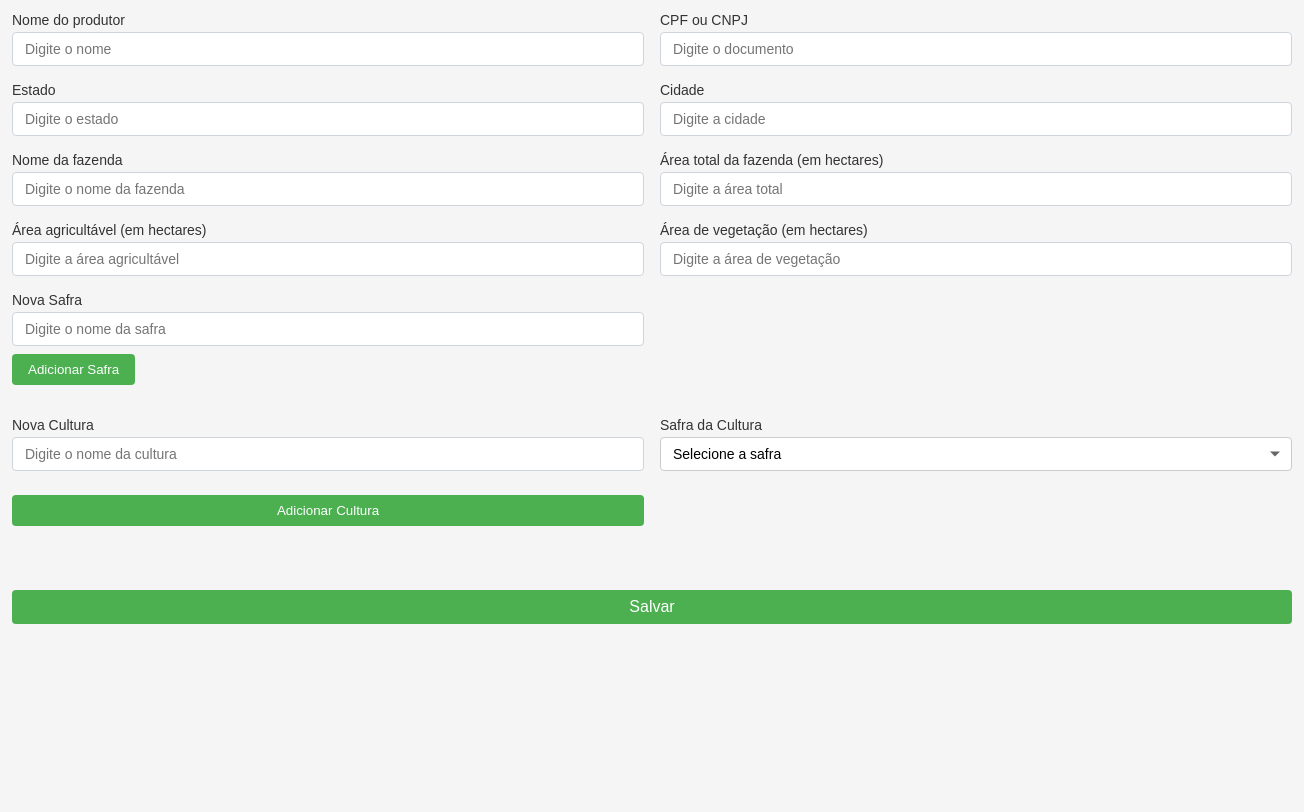
ProducerForm › should show error when cultivable + vegetation area exceeds total area
Note: Fill form with invalid area values
Type "100" into the number field with placeholder "Digite a área total" at [976, 189], box [660,172,1292,206]
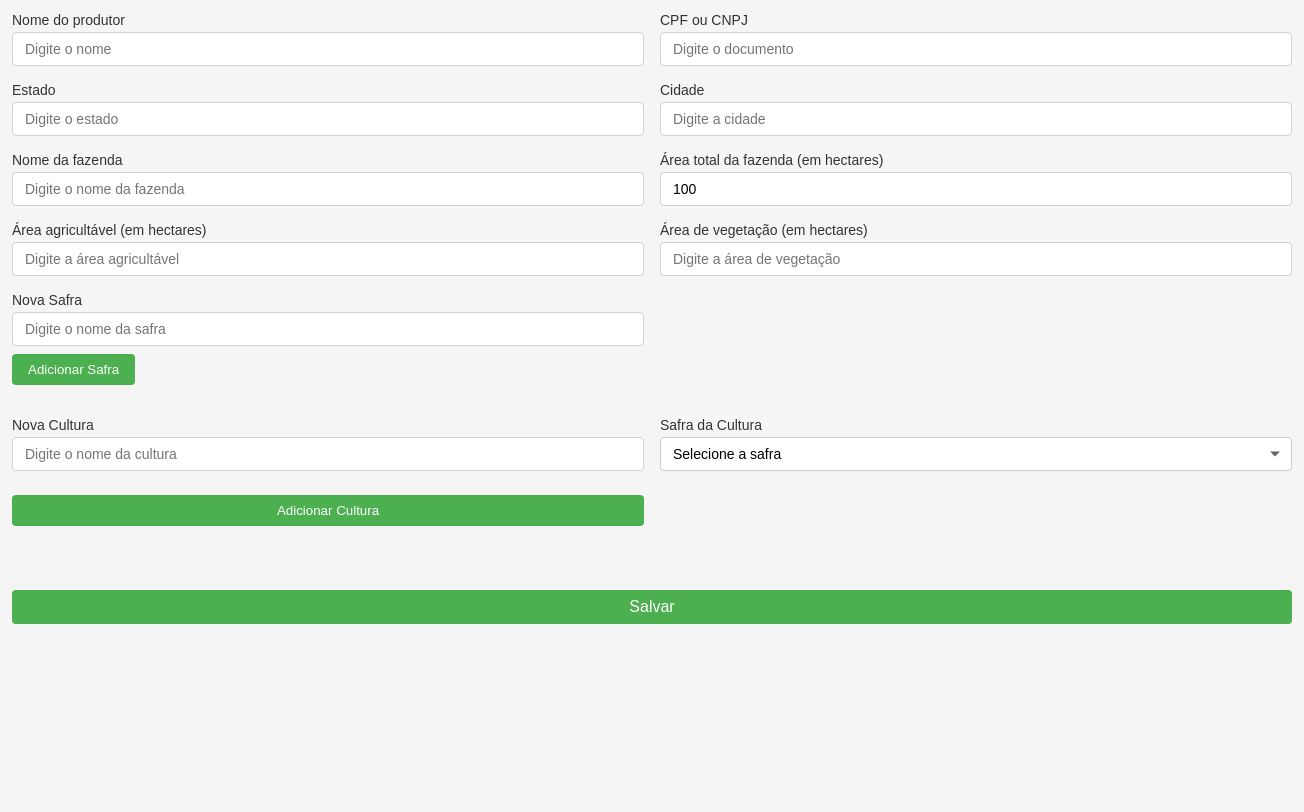
Type "80" into the number field with placeholder "Digite a área agricultável" at [328, 259], box [12,242,644,276]
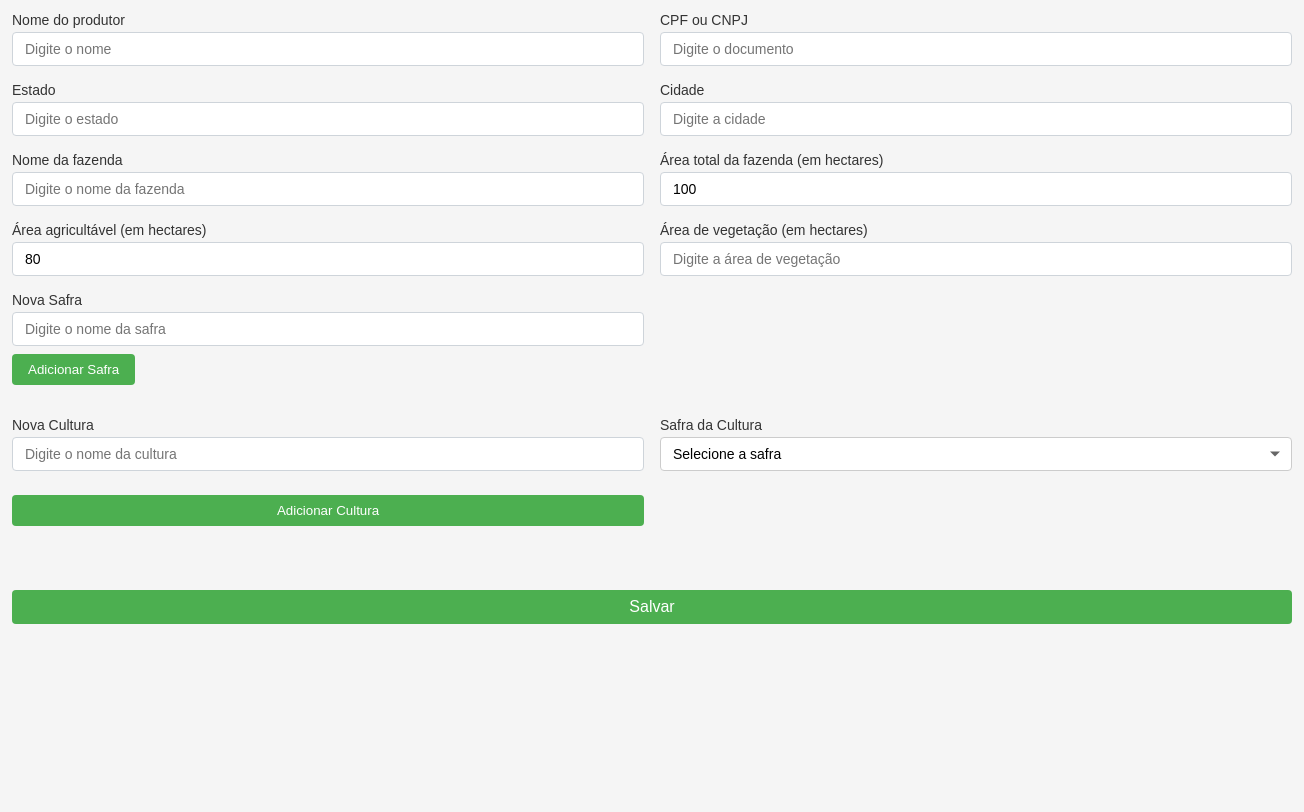
Type "50" into the number field with placeholder "Digite a área de vegetação" at [976, 259], box [660,242,1292,276]
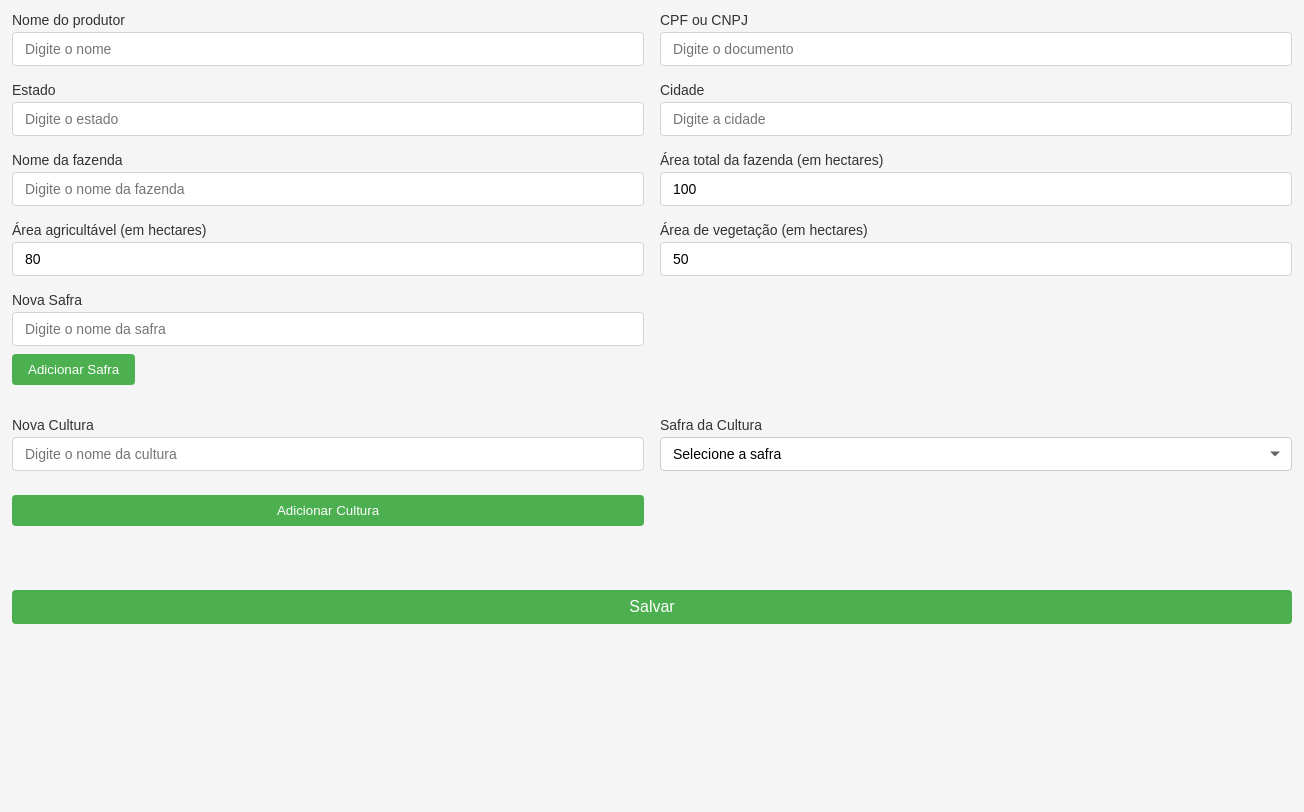
Click the button "Salvar" at [652, 607], box [12,590,1292,624]
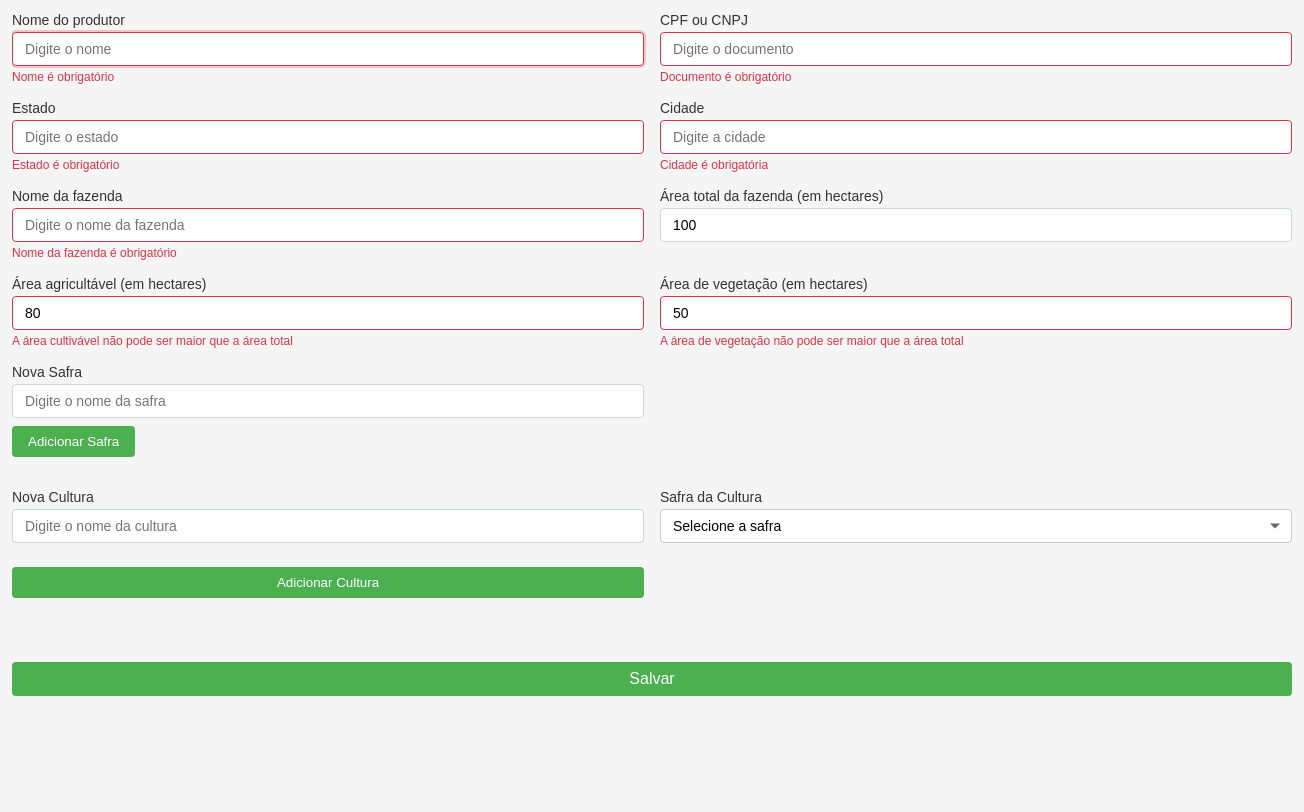
Now the text "A área cultivável não pode ser maior que a área total" is shown, box [12,334,293,348]
